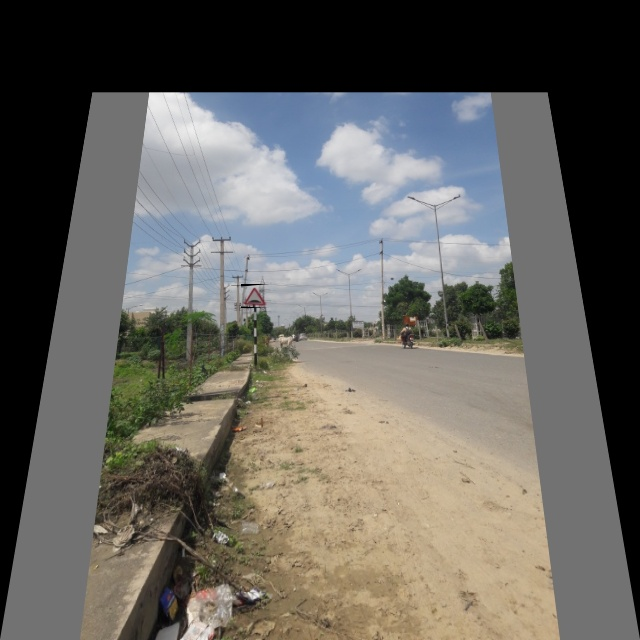Hump_or_Rough_Road: (241, 284, 270, 308)
